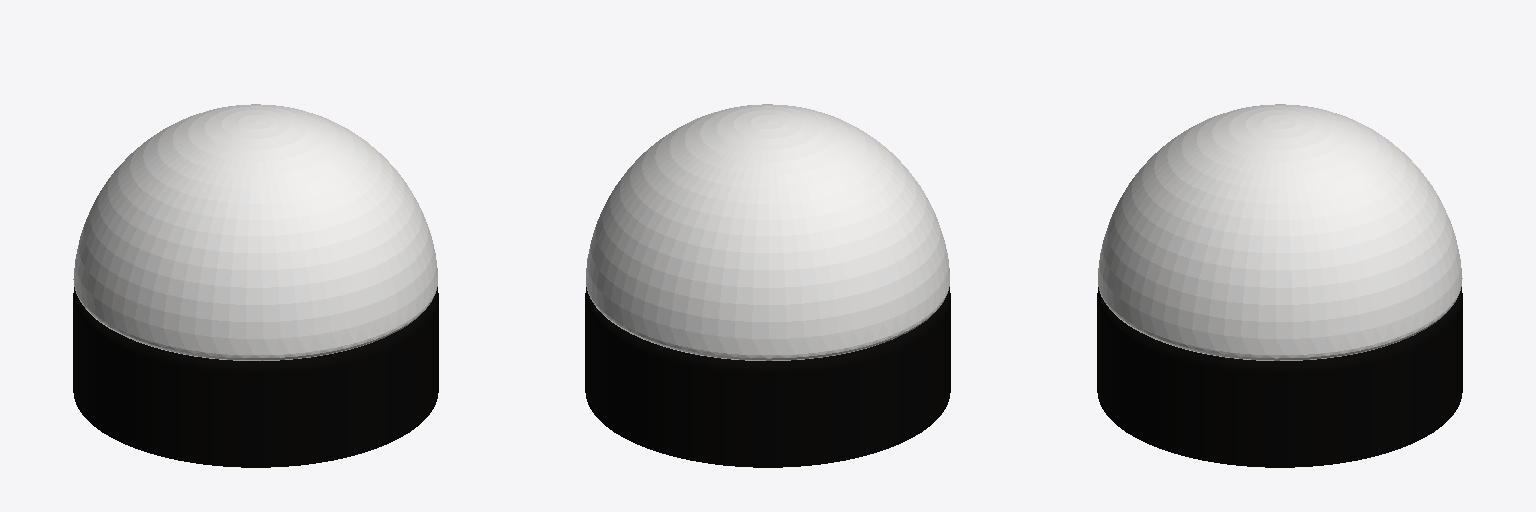
Rendered from camera_alt.obj.
The picture shows the model from 3 angles: view 1: azimuth 30°, elevation 25°; view 2: azimuth 150°, elevation 25°; view 3: azimuth 270°, elevation 25°; orthographic projection.
Parts seen in each view (by area): view 1: camera_lens_alt, camera_body_alt; view 2: camera_lens_alt, camera_body_alt; view 3: camera_lens_alt, camera_body_alt.
Part boxes in pixels (left/top/right/bottom): camera_lens_alt: left=73, top=104, right=437, bottom=360; camera_body_alt: left=73, top=287, right=438, bottom=467; camera_lens_alt: left=586, top=104, right=949, bottom=360; camera_body_alt: left=585, top=287, right=950, bottom=467; camera_lens_alt: left=1098, top=104, right=1462, bottom=360; camera_body_alt: left=1097, top=287, right=1462, bottom=467.
Bounding box in the file's own units: 0.0799 × 0.065 × 0.08.